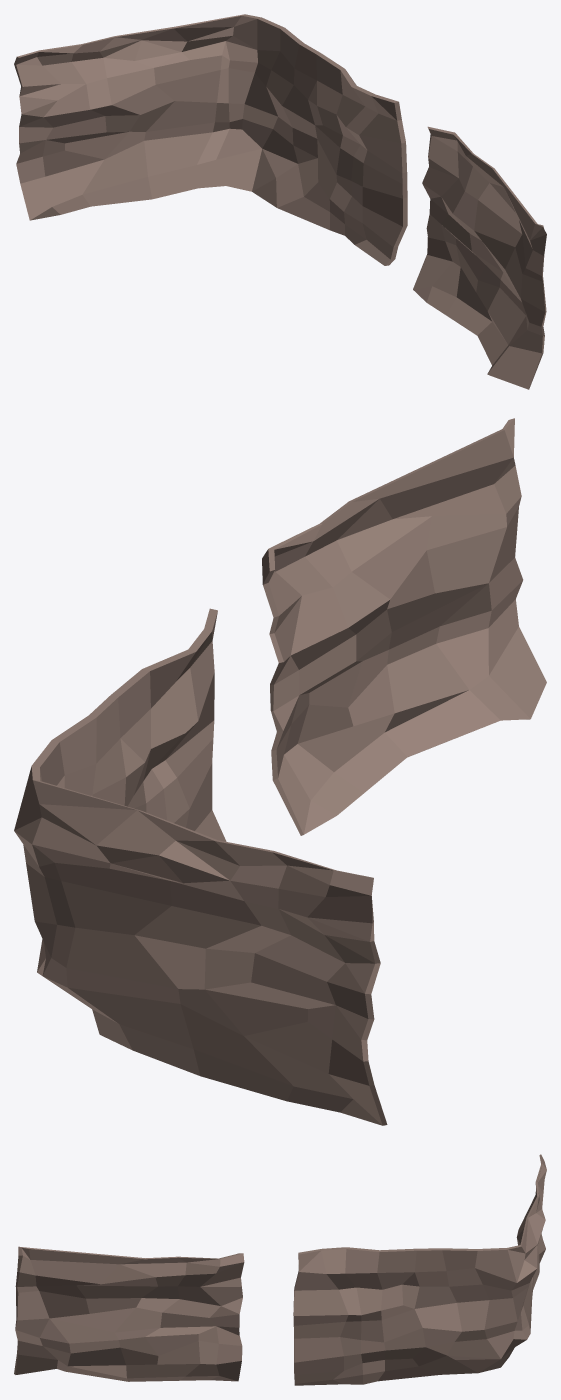
File: cave walls.fbx
3 views of the same model, one above another, from view 1: azimuth 30°, elevation 25°; view 2: azimuth 150°, elevation 25°; view 3: azimuth 270°, elevation 25° (orthographic). The views are drawn at different scales.
Parts seen in each view (by area): view 1: wall curve, wall straight; view 2: wall curve, wall straight; view 3: wall curve, wall straight.
Boxes of the visible parts, x1,y1,x2,y2 form: wall curve: [14, 14, 407, 265]; wall straight: [413, 126, 546, 389]; wall curve: [14, 608, 387, 1125]; wall straight: [262, 418, 546, 835]; wall curve: [293, 1154, 546, 1385]; wall straight: [14, 1246, 244, 1381].
Size of the model in its own units: 1963 by 1175 by 4140.
